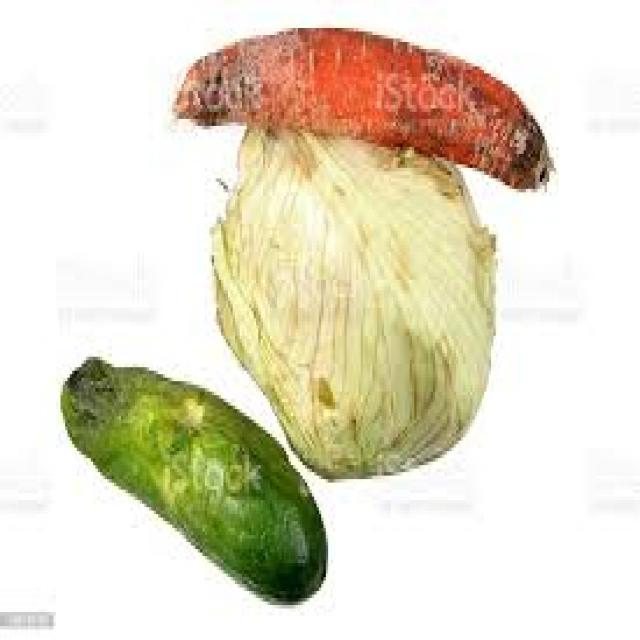organic waste: (207, 123, 494, 479), (58, 353, 326, 605), (172, 24, 554, 192)
